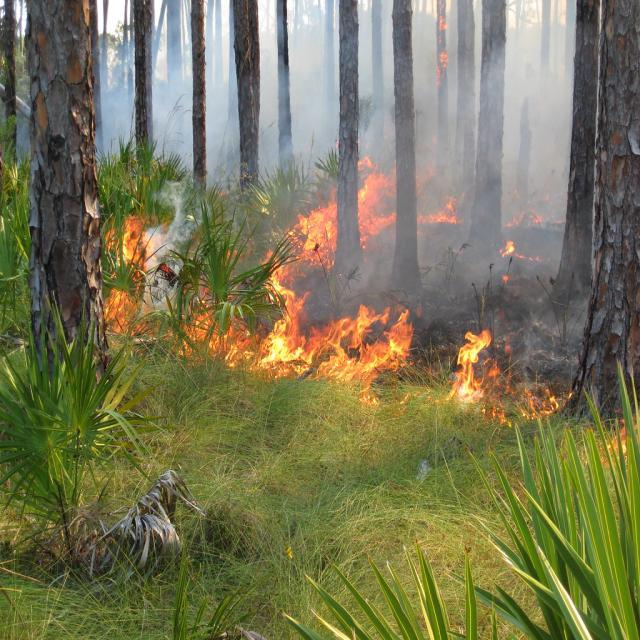Fire: (257, 288, 413, 412), (450, 330, 560, 423), (170, 259, 256, 371), (266, 200, 337, 285), (500, 204, 566, 284), (102, 215, 146, 333), (358, 156, 396, 248), (602, 412, 632, 464), (420, 194, 464, 224), (432, 18, 450, 86)
Smoke: (507, 1, 568, 205), (287, 0, 341, 184), (204, 2, 241, 184), (96, 2, 133, 160), (155, 1, 191, 160), (360, 0, 396, 156)
